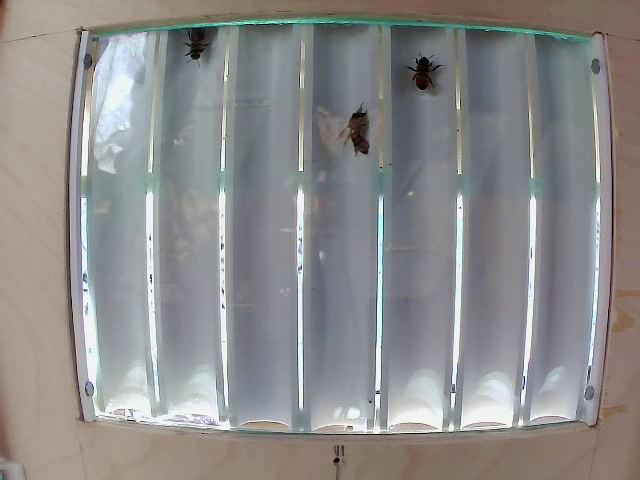bee: (329, 98, 382, 158), (177, 26, 222, 86), (405, 41, 442, 98)
